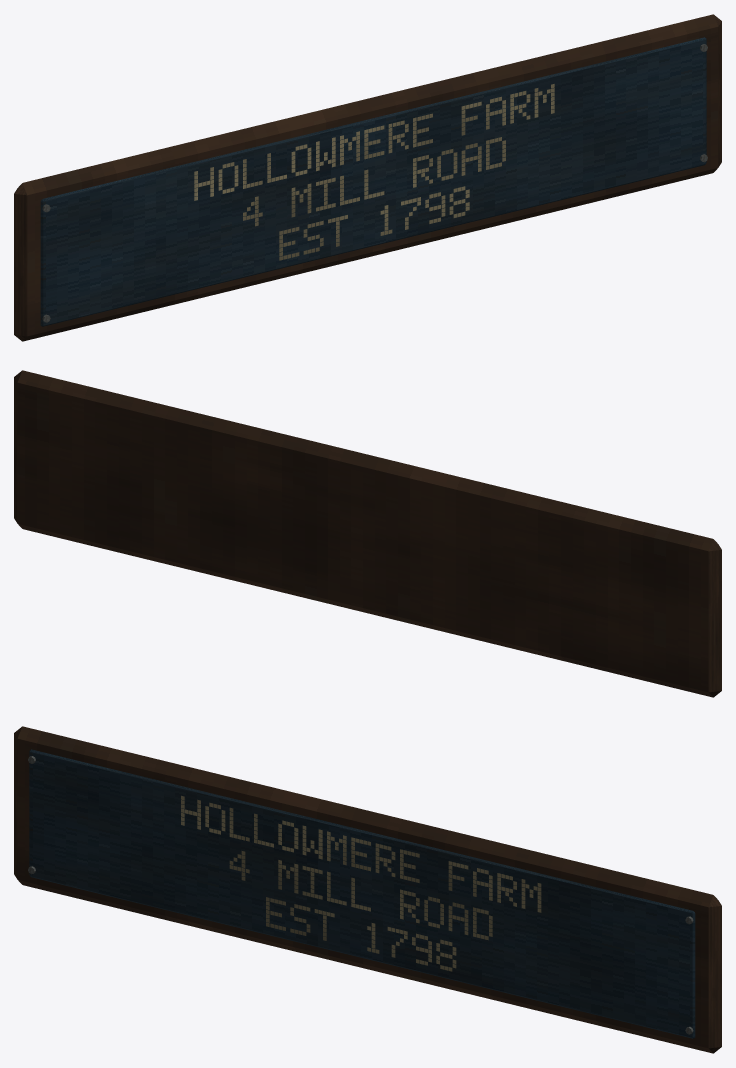
The model's file is level_sign_farmhouse_worn.glb.
3 views of the same model, one above another, from view 1: azimuth 30°, elevation 25°; view 2: azimuth 150°, elevation 25°; view 3: azimuth 330°, elevation 25° (orthographic).
Visible parts, largest first — view 1: level_sign_farmhouse_worn; view 2: level_sign_farmhouse_worn; view 3: level_sign_farmhouse_worn.
Part boxes in pixels (x1,y1,x2,y2): level_sign_farmhouse_worn: [14, 14, 721, 341]; level_sign_farmhouse_worn: [14, 370, 721, 697]; level_sign_farmhouse_worn: [14, 726, 721, 1053].
Size of the model in its own units: 1.68 by 0.36 by 0.053.
Materials: 4 (4 with a texture image).
